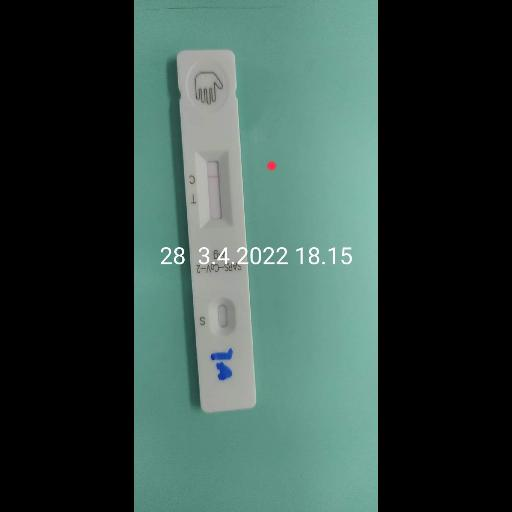Neg: (176, 49, 256, 411)
